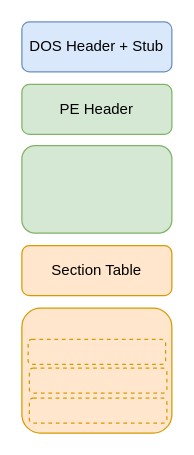
Some shapes in this 194 by 455 pixel diagram are drawn without their labels. Each missing label, with the box of its shape:
Optional Header: (21, 144, 172, 233)
Sections: (56, 310, 131, 335)
